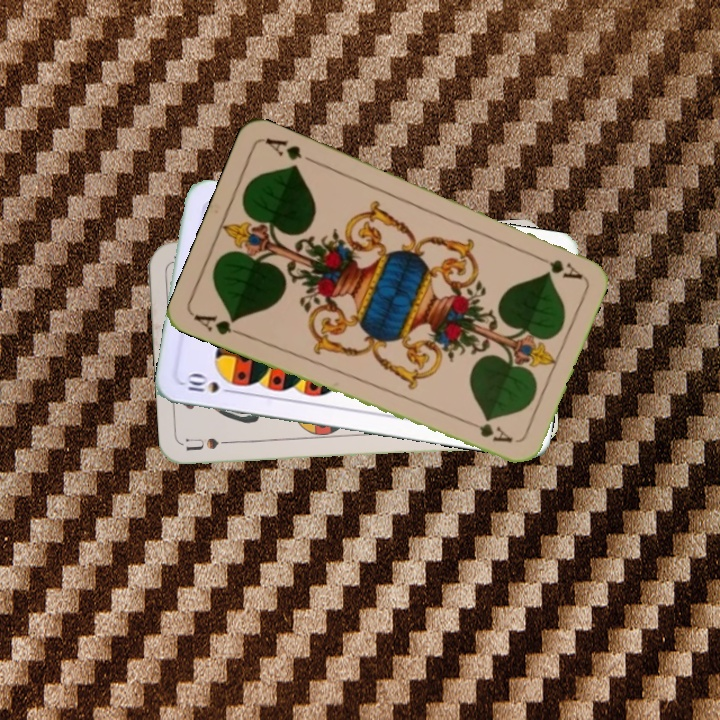GA: (528, 250, 584, 282), (190, 310, 247, 339)
S10: (179, 371, 238, 396)
SU: (183, 433, 242, 453)
